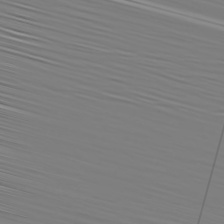cavities: (60, 55, 194, 120)
